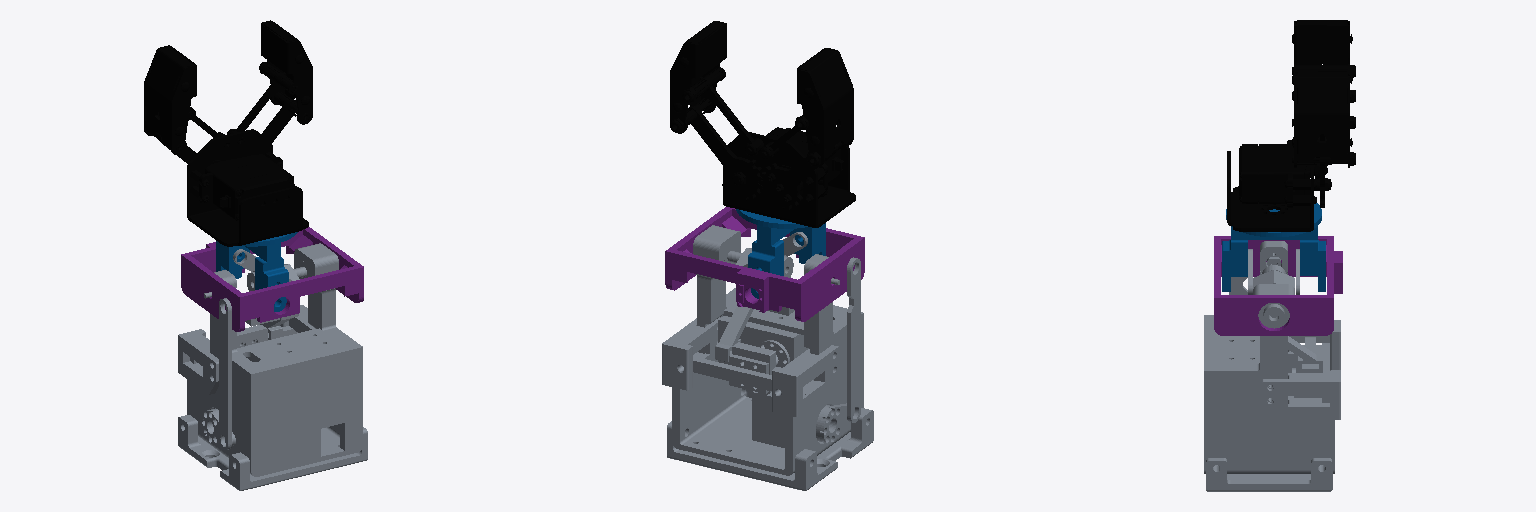
The robot description file, URDF, robot "wrist_bigclaw_standalone":
<robot name="wrist_bigclaw_standalone"><link name="base_link" /><link name="wrist_base">
    <visual>
      <origin xyz="-0.044 -0.0375 0" rpy="0 0 0" />
      <geometry>
        <mesh filename="meshes/robot_wrist/base.stl" scale="0.001 0.001 0.001" />
      </geometry>
      <material name="WristBaseGrey">
        <color rgba="0.55 0.58 0.62 1.0" />
      </material>
    </visual>
    <collision>
      <origin xyz="-0.044 -0.0375 0" rpy="0 0 0" />
      <geometry>
        <mesh filename="meshes/robot_wrist/base.stl" scale="0.001 0.001 0.001" />
      </geometry>
    </collision>
    <inertial>
      <origin xyz="-0.000291038 -0.005054780 0.046150017" rpy="0 0 0" />
      <mass value="0.270201193" />
      <inertia ixx="0.000353858931" ixy="-0.000003082159" ixz="-0.000028812722" iyy="0.000411049758" iyz="-0.000003483672" izz="0.000276669948" />
    </inertial>
  </link>
  <link name="fe_yoke">
    <visual>
      <origin xyz="-0.032 -0.04025 -0.11345" rpy="0 0 0" />
      <geometry>
        <mesh filename="meshes/robot_wrist/fe_yoke.stl" scale="0.001 0.001 0.001" />
      </geometry>
      <material name="WristYokePurple">
        <color rgba="0.48 0.20 0.55 1.0" />
      </material>
    </visual>
    <collision>
      <origin xyz="-0.032 -0.04025 -0.11345" rpy="0 0 0" />
      <geometry>
        <mesh filename="meshes/robot_wrist/fe_yoke.stl" scale="0.001 0.001 0.001" />
      </geometry>
    </collision>
    <inertial>
      <origin xyz="0.010134536 0.001892805 0.002111532" rpy="0 0 0" />
      <mass value="0.023754506" />
      <inertia ixx="0.000017400083" ixy="0.000000469999" ixz="-0.000000187035" iyy="0.000027096053" iyz="-0.000000040136" izz="0.000042560374" />
    </inertial>
  </link>
  <link name="output_flange">
    <visual>
      <origin xyz="-0.032 -0.04025 -0.11345" rpy="0 0 0" />
      <geometry>
        <mesh filename="meshes/robot_wrist/output_flange.stl" scale="0.001 0.001 0.001" />
      </geometry>
      <material name="WristFlangeBlue">
        <color rgba="0.05 0.36 0.57 1.0" />
      </material>
    </visual>
    <collision>
      <origin xyz="-0.032 -0.04025 -0.11345" rpy="0 0 0" />
      <geometry>
        <mesh filename="meshes/robot_wrist/output_flange.stl" scale="0.001 0.001 0.001" />
      </geometry>
    </collision>
    <inertial>
      <origin xyz="0.000000245 -0.000092165 0.024490482" rpy="0 0 0" />
      <mass value="0.022042302" />
      <inertia ixx="0.000011689817" ixy="-0.000000000001" ixz="-0.000000000075" iyy="0.000005629826" iyz="-0.000000041319" izz="0.000009157606" />
    </inertial>
  </link>
  <link name="wrist_tool0">
    <visual>
      <geometry>
        <sphere radius="0.0001" />
      </geometry>
      <material name="WristToolFrameInvisible">
        <color rgba="0 0 0 0" />
      </material>
    </visual>
    <inertial>
      <origin xyz="0 0 0" rpy="0 0 0" />
      <mass value="0.000001" />
      <inertia ixx="0.000000000000004" ixy="0" ixz="0" iyy="0.000000000000004" iyz="0" izz="0.000000000000004" />
    </inertial>
  </link>
  <link name="bigclaw_link">
    <visual>
      <origin xyz="0 0 0" rpy="0 0 0" />
      <geometry>
        <mesh filename="meshes/bigclaw/BIgClaw_simple.stl" />
      </geometry>
      <material name="BigClawMetal">
        <color rgba="0.04 0.04 0.04 1" />
      </material>
    </visual>
    <collision>
      <origin xyz="0 0 0" rpy="0 0 -1.57079632679" />
      <geometry>
        <mesh filename="meshes/bigclaw/BIgClaw_simple.stl" />
      </geometry>
    </collision>
    <inertial>
      <origin xyz="0.018 -0.01 0.05" rpy="0 0 0" />
      <mass value="0.35" />
      <inertia ixx="0.0004" ixy="0" ixz="0" iyy="0.0004" iyz="0" izz="0.00025" />
    </inertial>
  </link>
  <joint name="base_to_wrist" type="fixed"><parent link="base_link" /><child link="wrist_base" /><origin xyz="0 0 0" rpy="0 0 0" /></joint><joint name="wrist_fe_joint" type="revolute">
    <origin xyz="-0.012 0.00275 0.11345" rpy="0 0 0" />
    <parent link="wrist_base" />
    <child link="fe_yoke" />
    <axis xyz="1 0 0" />
    <limit lower="-1.047198" upper="1.047198" effort="2.0" velocity="2.0" />
    <dynamics damping="0.05" friction="0.01" />
  </joint>
  <joint name="wrist_ru_joint" type="revolute">
    <origin xyz="0 0 0" rpy="0 0 0" />
    <parent link="fe_yoke" />
    <child link="output_flange" />
    <axis xyz="0 1 0" />
    <limit lower="-1.047198" upper="1.047198" effort="2.0" velocity="2.0" />
    <dynamics damping="0.05" friction="0.01" />
  </joint>
  <joint name="wrist_tool0_fixed" type="fixed">
    <origin xyz="0 0 0.04" rpy="0 0 0" />
    <parent link="output_flange" />
    <child link="wrist_tool0" />
  </joint>
  <joint name="wrist_tool0_to_bigclaw" type="fixed">
    <origin xyz="0.01775031 0 0" rpy="0 0 3.14159265359" />
    <parent link="wrist_tool0" />
    <child link="bigclaw_link" />
  </joint>
</robot>

--- Facts derived from the render (not from the file) ---
3 views of the same robot in one strip: view 1: azimuth 30°, elevation 25°; view 2: azimuth 150°, elevation 25°; view 3: azimuth 270°, elevation 25° (orthographic).
Model wrist_bigclaw_standalone with 6 links and 5 joints (2 revolute, 3 fixed), rooted at base_link, posed every joint at zero.
Visible links, largest first — view 1: wrist_base, bigclaw_link, fe_yoke, output_flange; view 2: wrist_base, bigclaw_link, fe_yoke, output_flange; view 3: wrist_base, bigclaw_link, fe_yoke, output_flange.
Link boxes in pixels (<box>): wrist_base: <box>178,243,367,490</box>; bigclaw_link: <box>144,20,312,246</box>; fe_yoke: <box>181,227,363,331</box>; output_flange: <box>216,232,297,311</box>; wrist_base: <box>662,225,873,490</box>; bigclaw_link: <box>670,21,855,227</box>; fe_yoke: <box>665,207,864,321</box>; output_flange: <box>736,209,825,298</box>; wrist_base: <box>1204,241,1340,491</box>; bigclaw_link: <box>1227,20,1355,231</box>; fe_yoke: <box>1214,236,1342,335</box>; output_flange: <box>1222,203,1325,291</box>.
Bounding box of the posed robot: 0.1029 × 0.0872 × 0.2563 m (x, y, z).
Meshes: 4 distinct files referenced, 4 mesh visuals loaded (4 binary STL).
